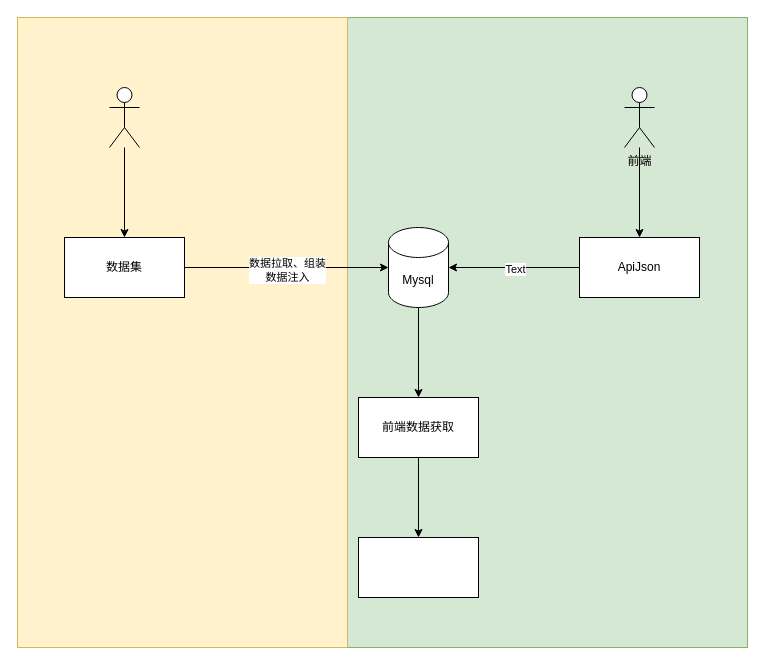
This 765x665 diagram has some shape labels left out. The centre of each missing label's shape, as x and y in pixels:
后端: the point at 124,117
页面渲染: the point at 418,567
